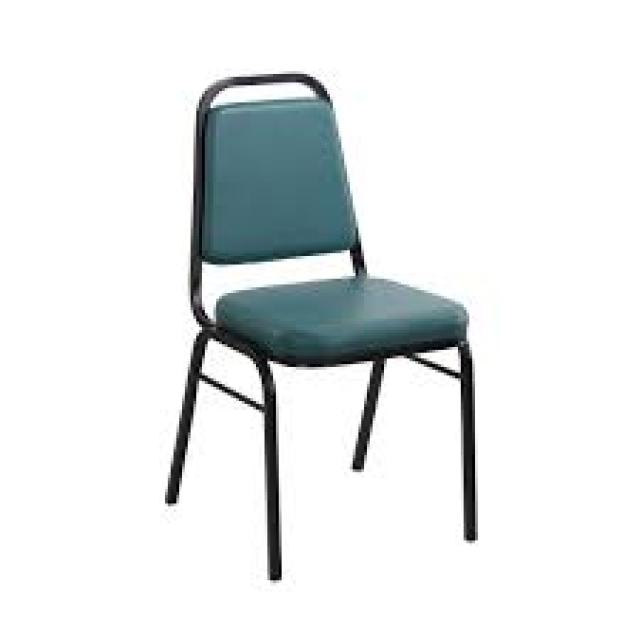chair: (112, 48, 529, 606)
